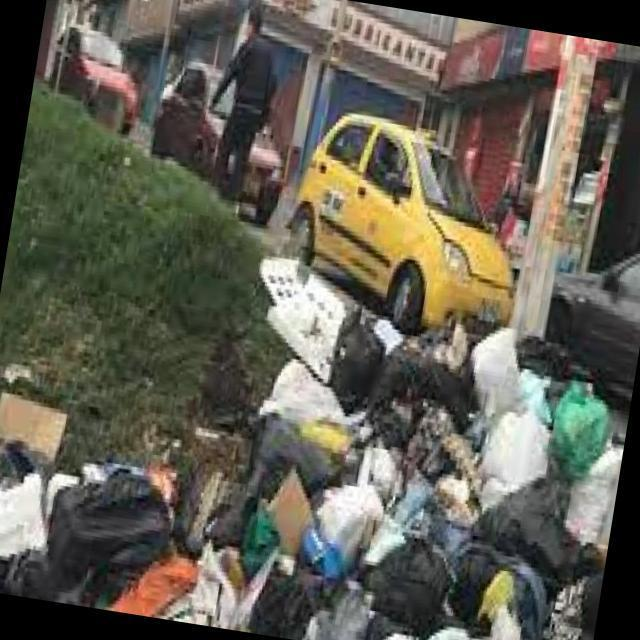garbage: (227, 296, 638, 640), (0, 443, 249, 629), (0, 383, 73, 457)
